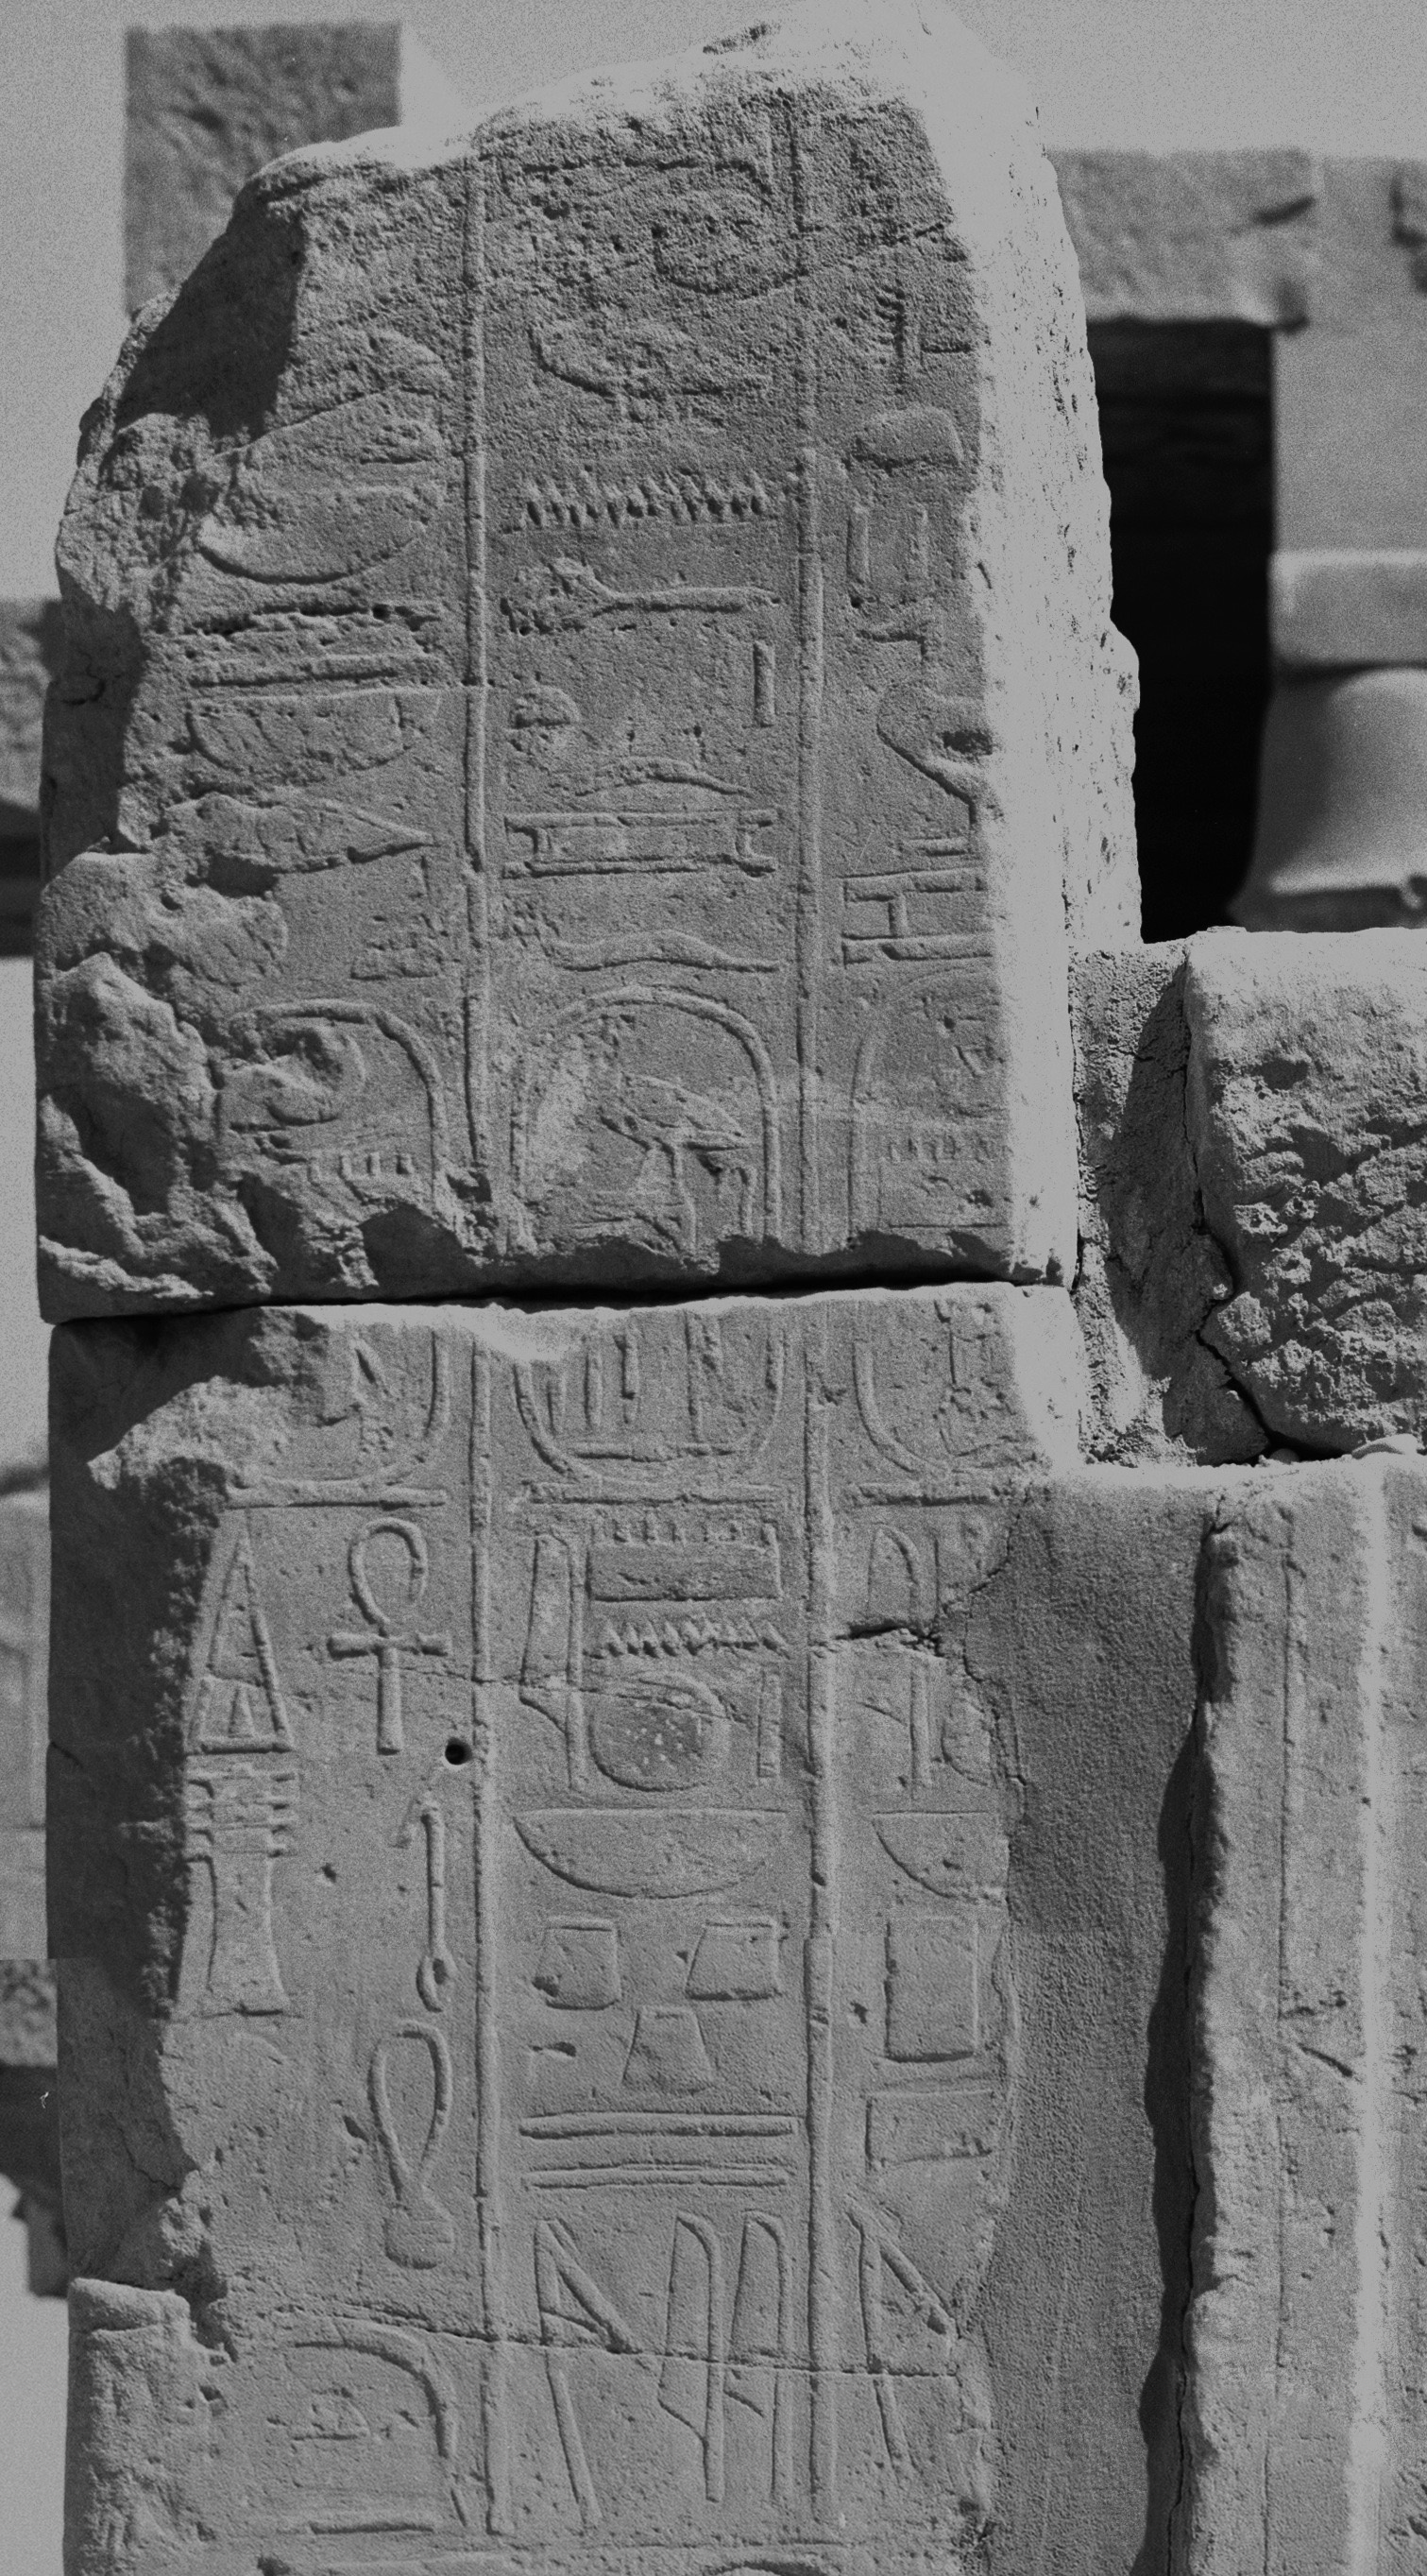D4: (176, 791, 446, 882)
I10: (243, 2279, 474, 2493)
M17: (640, 2195, 749, 2527), (842, 1515, 949, 1805), (721, 2202, 819, 2516), (508, 1515, 605, 1801)
N35: (496, 453, 789, 552), (578, 1606, 793, 1666)
V30: (497, 1799, 814, 1912), (179, 680, 459, 791), (176, 485, 459, 585), (856, 1805, 1047, 1912)
X8: (183, 1501, 306, 1771)
